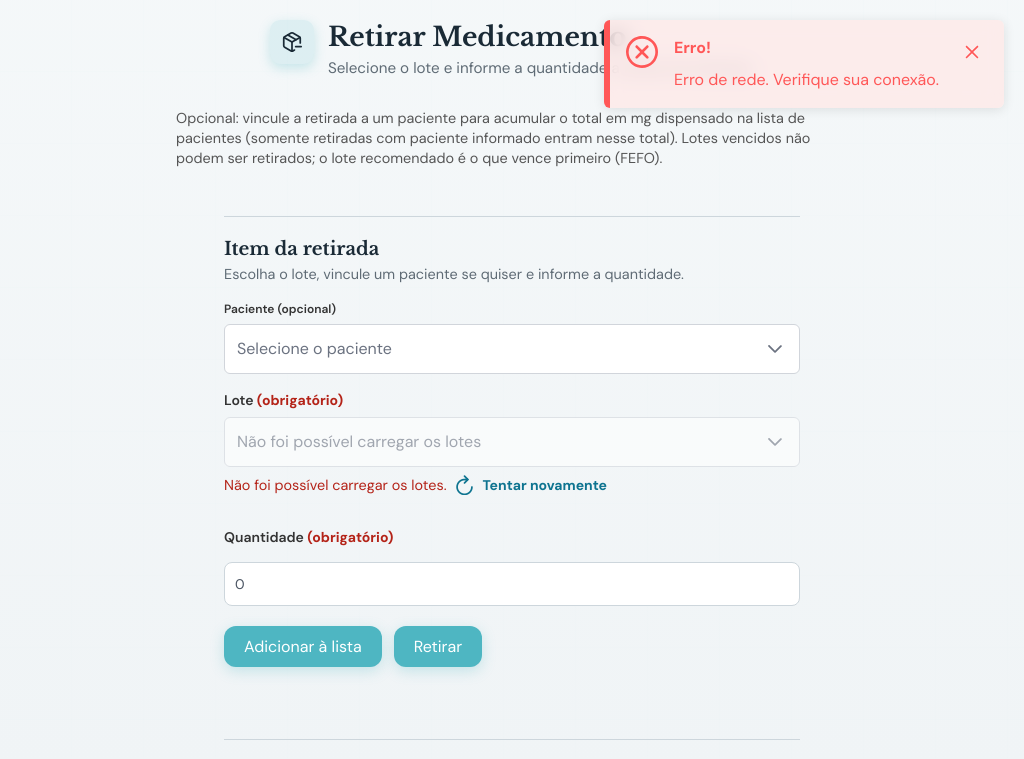
it: RetiraMedication › quando os lotes não carregam, oferece tentar novamente
Expected: the text "Não foi possível carregar os lotes" is shown, [237, 431, 481, 452]
Click the button "Tentar novamente".
click(531, 485)  # box [454, 475, 607, 495]
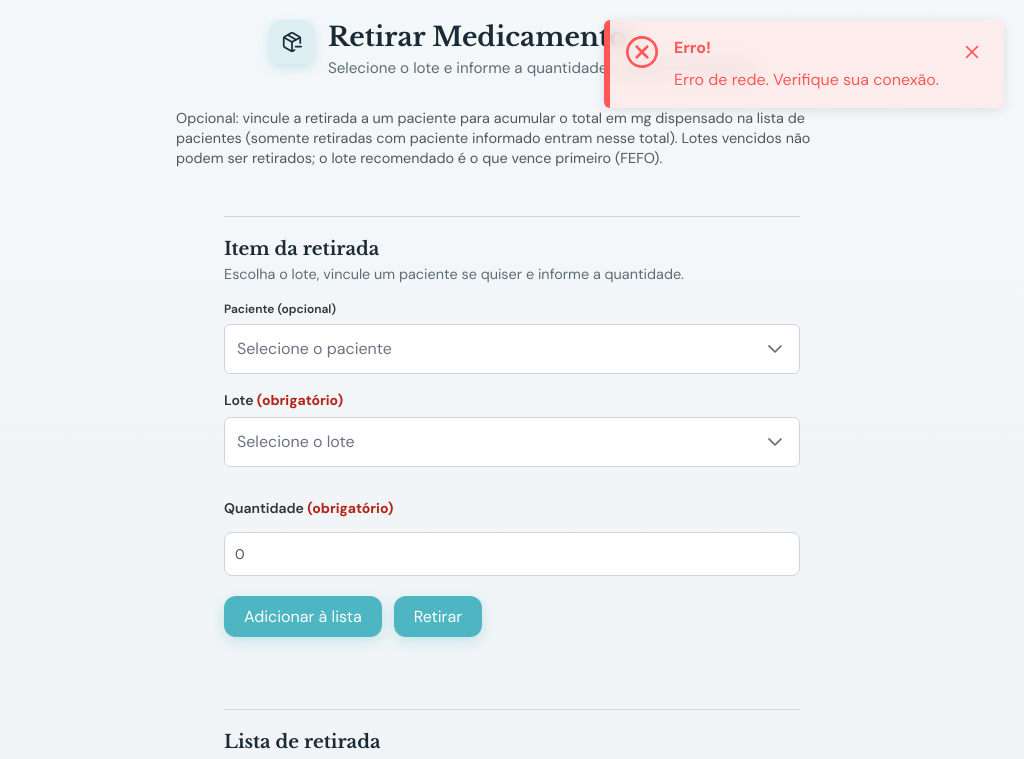
Now the message "Não foi possível carregar os lotes. Tentar novamente" is gone
Now the button "Tentar novamente" is gone
